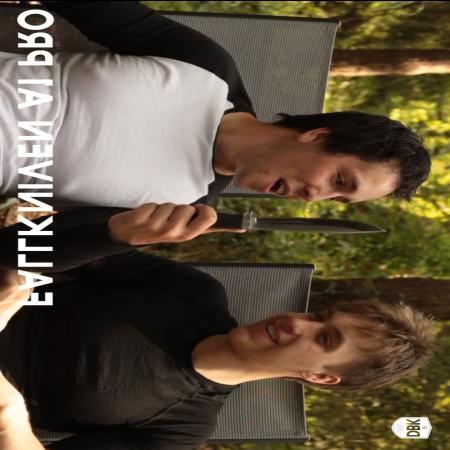long weapon: (158, 198, 396, 236)
